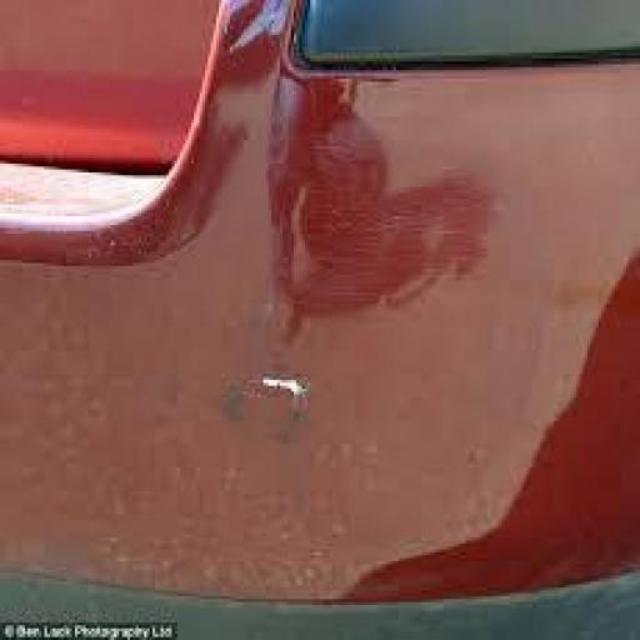rub: (218, 89, 567, 427)
